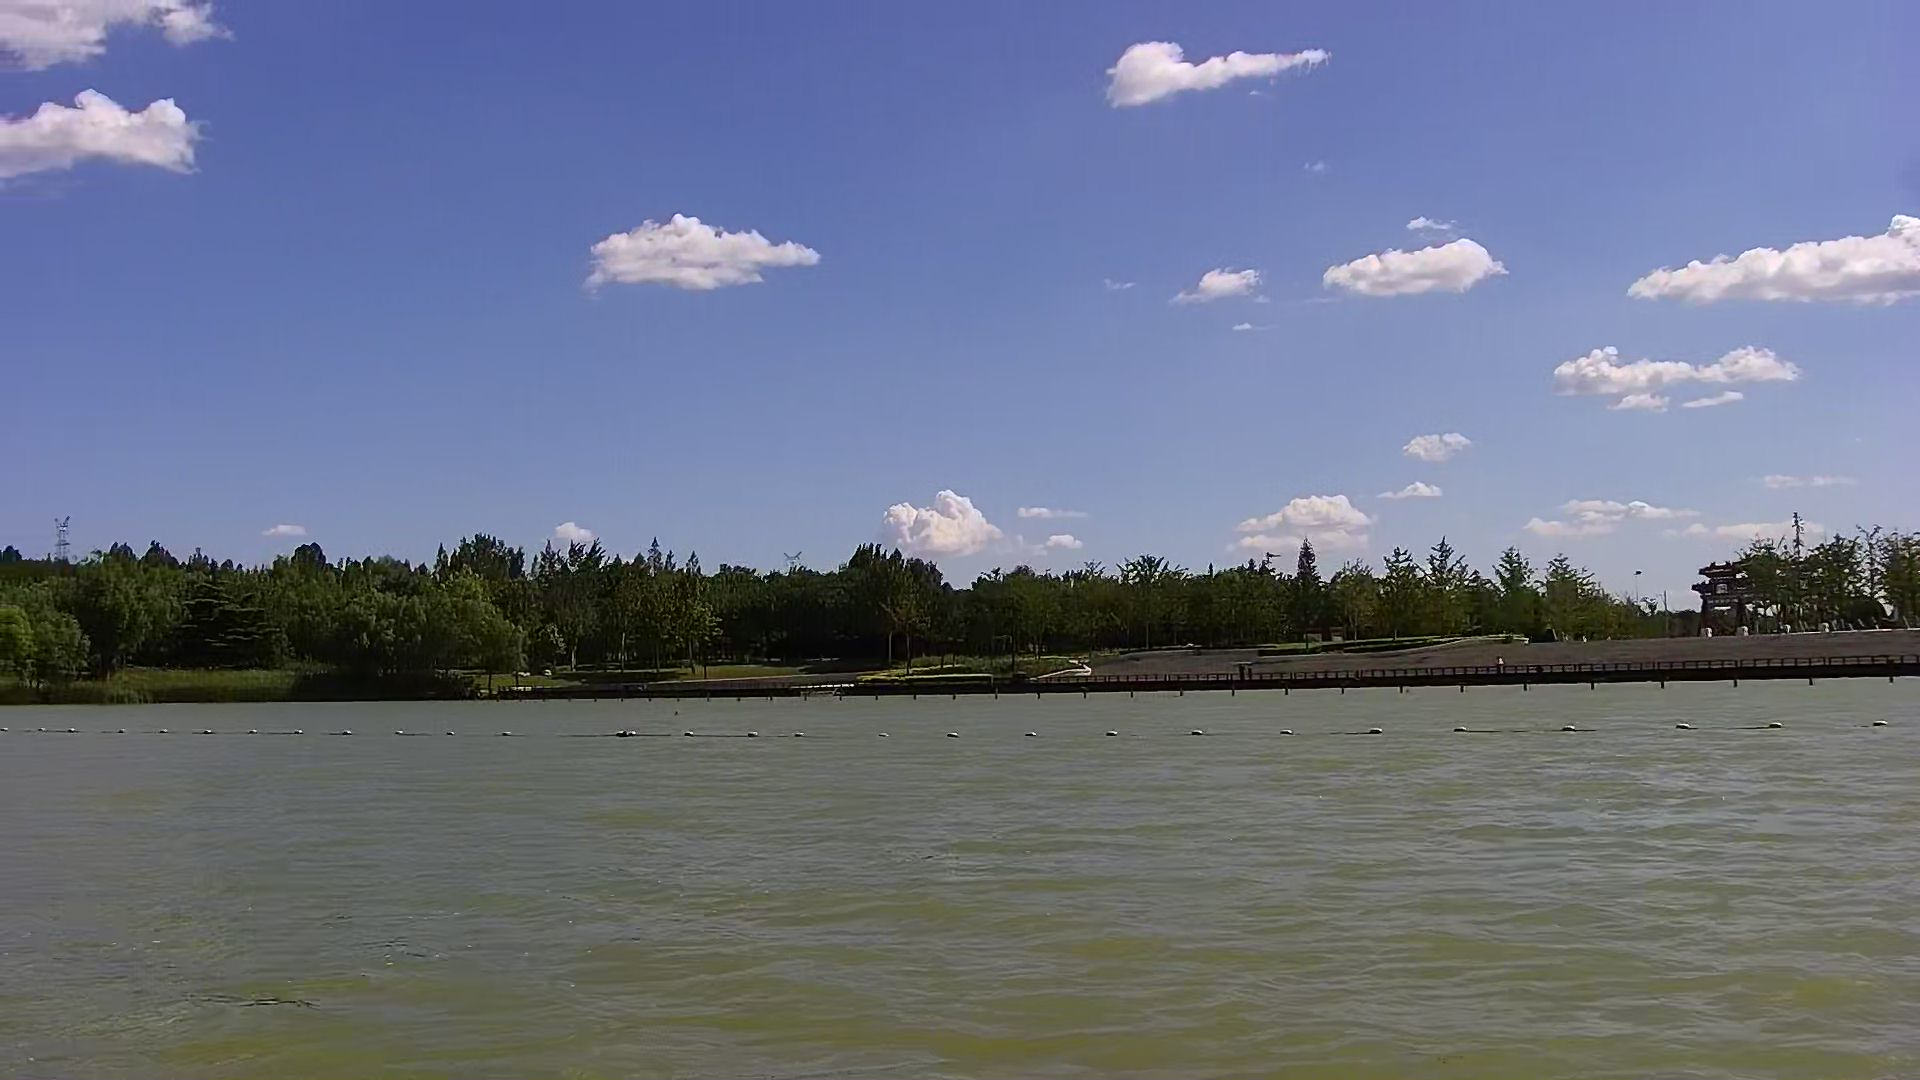ball: (1068, 632, 1920, 698), (1367, 717, 1394, 742), (1764, 715, 1792, 735), (1673, 716, 1697, 735), (1557, 721, 1577, 738)
